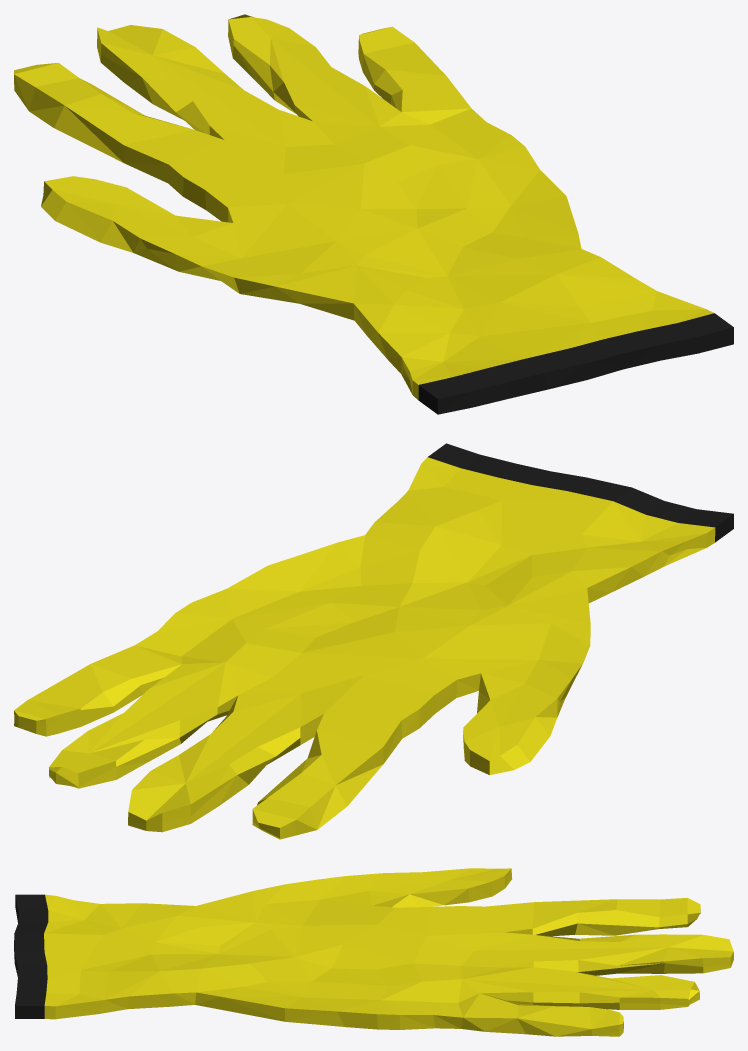
The model's file is LatexGloves.fbx.
3 renders of one model, top to bottom at view 1: azimuth 30°, elevation 25°; view 2: azimuth 150°, elevation 25°; view 3: azimuth 270°, elevation 25°, orthographic. The views are drawn at different scales.
Visible parts, largest first — view 1: Gloves; view 2: Gloves; view 3: Gloves.
Part boxes in pixels (x1,y1,x2,y2): Gloves: (14,14,733,414); Gloves: (14,443,733,839); Gloves: (14,868,733,1036).
Bounding box in the file's own units: 11.2 × 0.7434 × 20.69.
